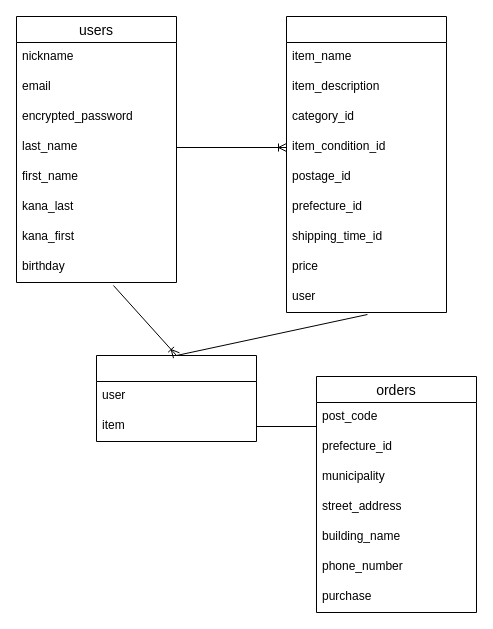
The diagram is 493 pixels wide and 629 high, and some of its shapes have lost their labels. The shapes that lost their labels are listed below. From the top down, each one's box as (x1, y1, x2, y2) in pixels, then its label:
(286, 16, 446, 312): items
(96, 354, 256, 442): purchases
